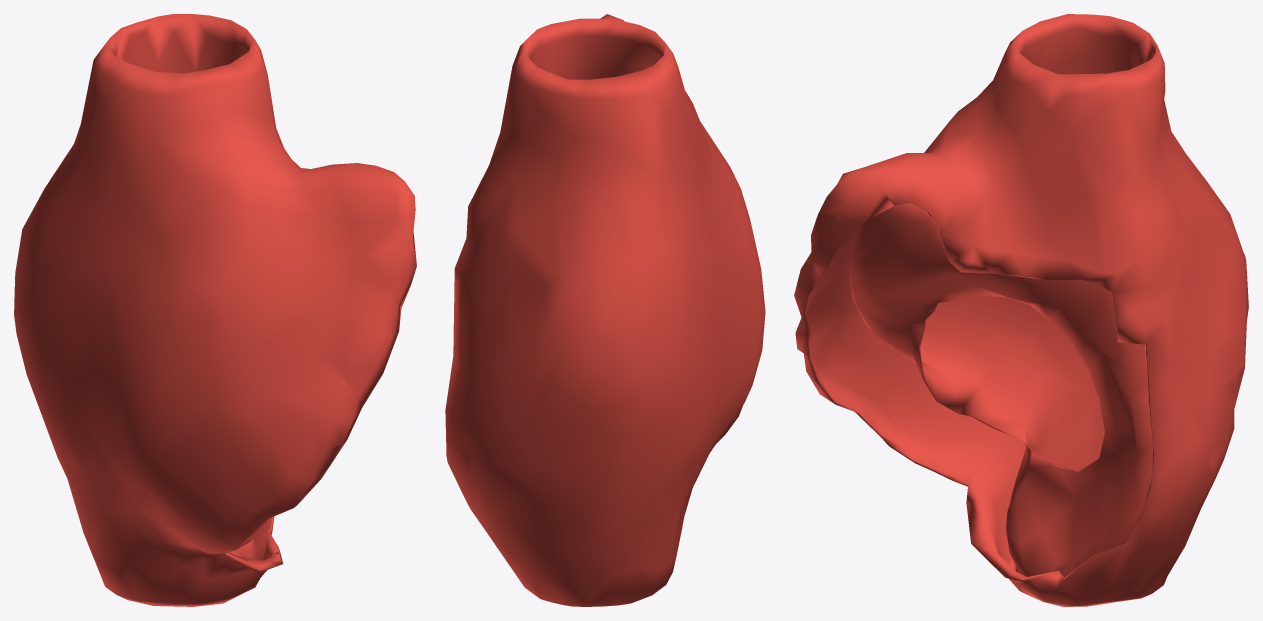
The model's file is rightatrium.gltf.
3 views of the same model, side by side, from view 1: azimuth 30°, elevation 25°; view 2: azimuth 150°, elevation 25°; view 3: azimuth 270°, elevation 25° (orthographic).
Visible parts, largest first — view 1: Rightatrium.018; view 2: Rightatrium.018; view 3: Rightatrium.018.
Part boxes in pixels (x1,y1,x2,y2): Rightatrium.018: (14, 14, 416, 606); Rightatrium.018: (445, 14, 765, 606); Rightatrium.018: (794, 14, 1248, 606).
Size of the model in its own units: 1.49 by 3.08 by 2.36.
